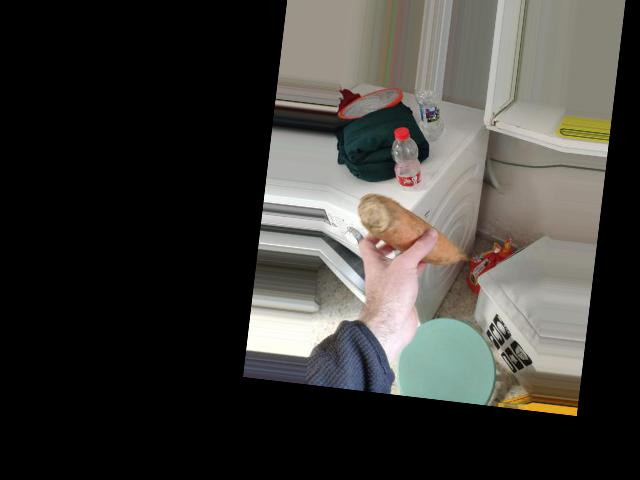sweet_potato: (358, 188, 464, 276)
